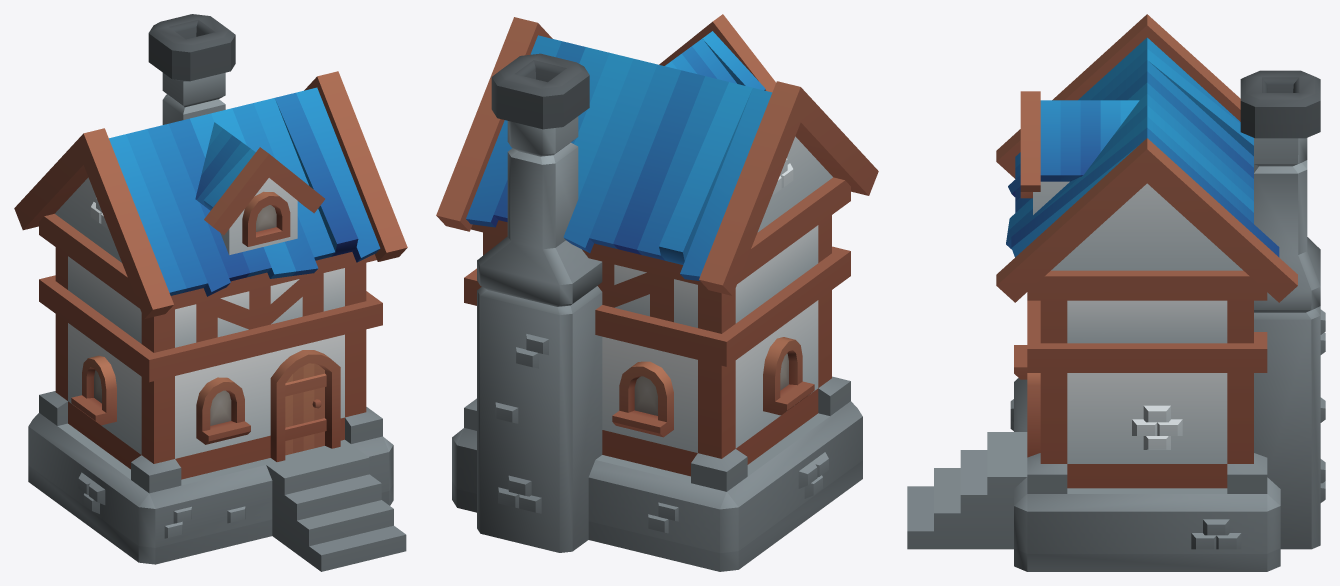
File: building_home_B_blue.gltf
The picture shows the model from 3 angles, left to right: view 1: azimuth 30°, elevation 25°; view 2: azimuth 150°, elevation 25°; view 3: azimuth 270°, elevation 25°; orthographic projection. The views are drawn at different scales.
Parts seen in each view (by area): view 1: building_home_B_blue; view 2: building_home_B_blue; view 3: building_home_B_blue.
Boxes of the visible parts, box(x1,y1,x2,y2) form: building_home_B_blue: box(14, 14, 407, 571); building_home_B_blue: box(436, 14, 878, 571); building_home_B_blue: box(907, 14, 1325, 571).
Bounding box in the file's own units: 0.8749 × 1.28 × 1.1.
Materials: 1 (1 with a texture image).
